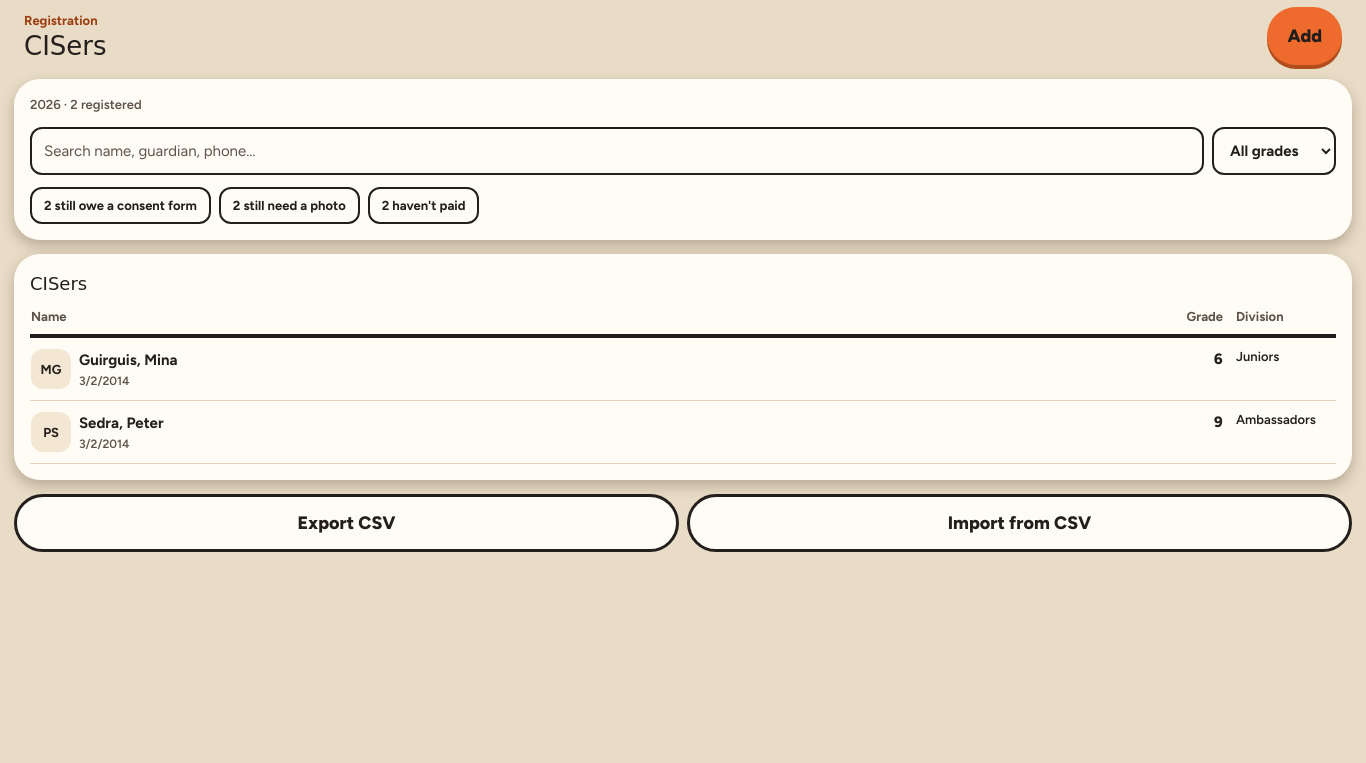
roster row -- rows are independent › opening one kid does not open another
The width and height of the screenshot is (1366, 763).
Step 1. Click the text "Juniors" → (1258, 357), box left=1224, top=336, right=1336, bottom=401
(page scrolled)
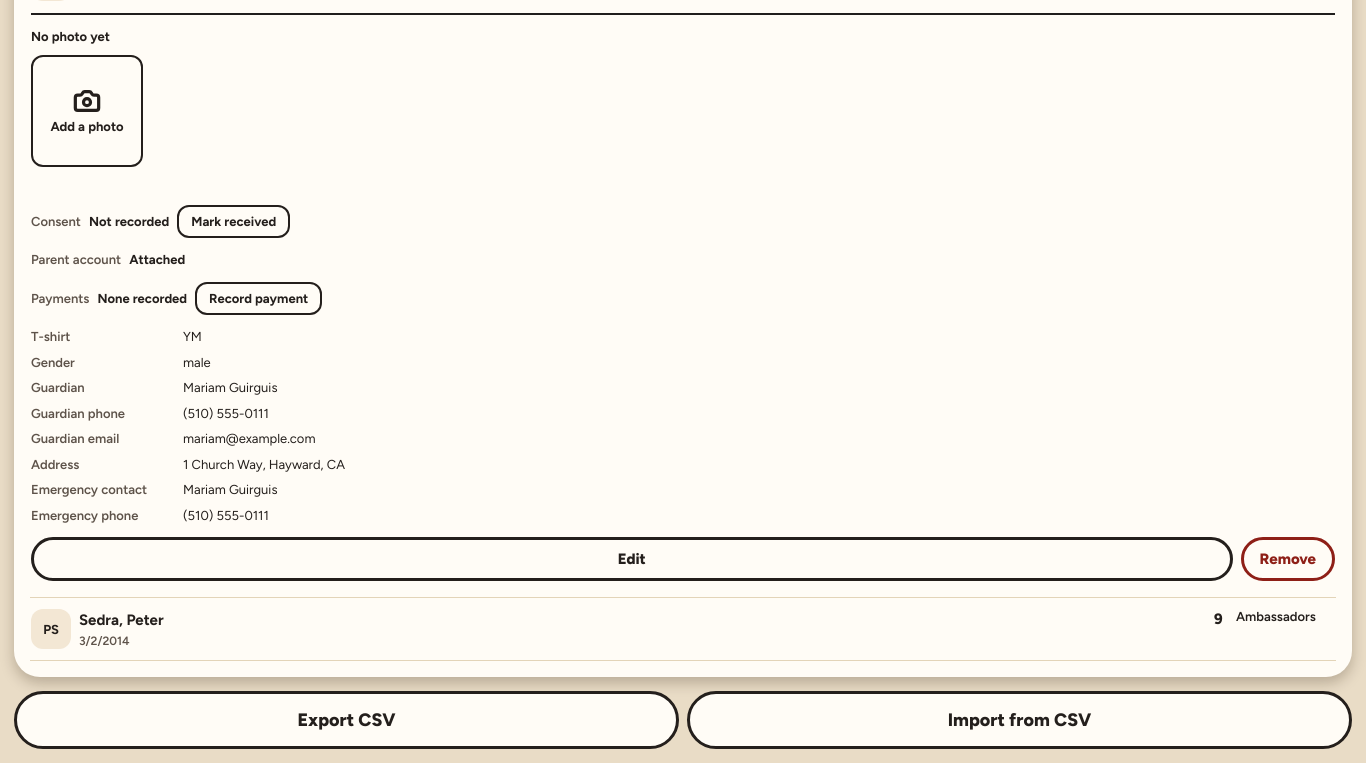
expect the text "Emergency contact" is shown once: met, box left=31, top=482, right=147, bottom=498
